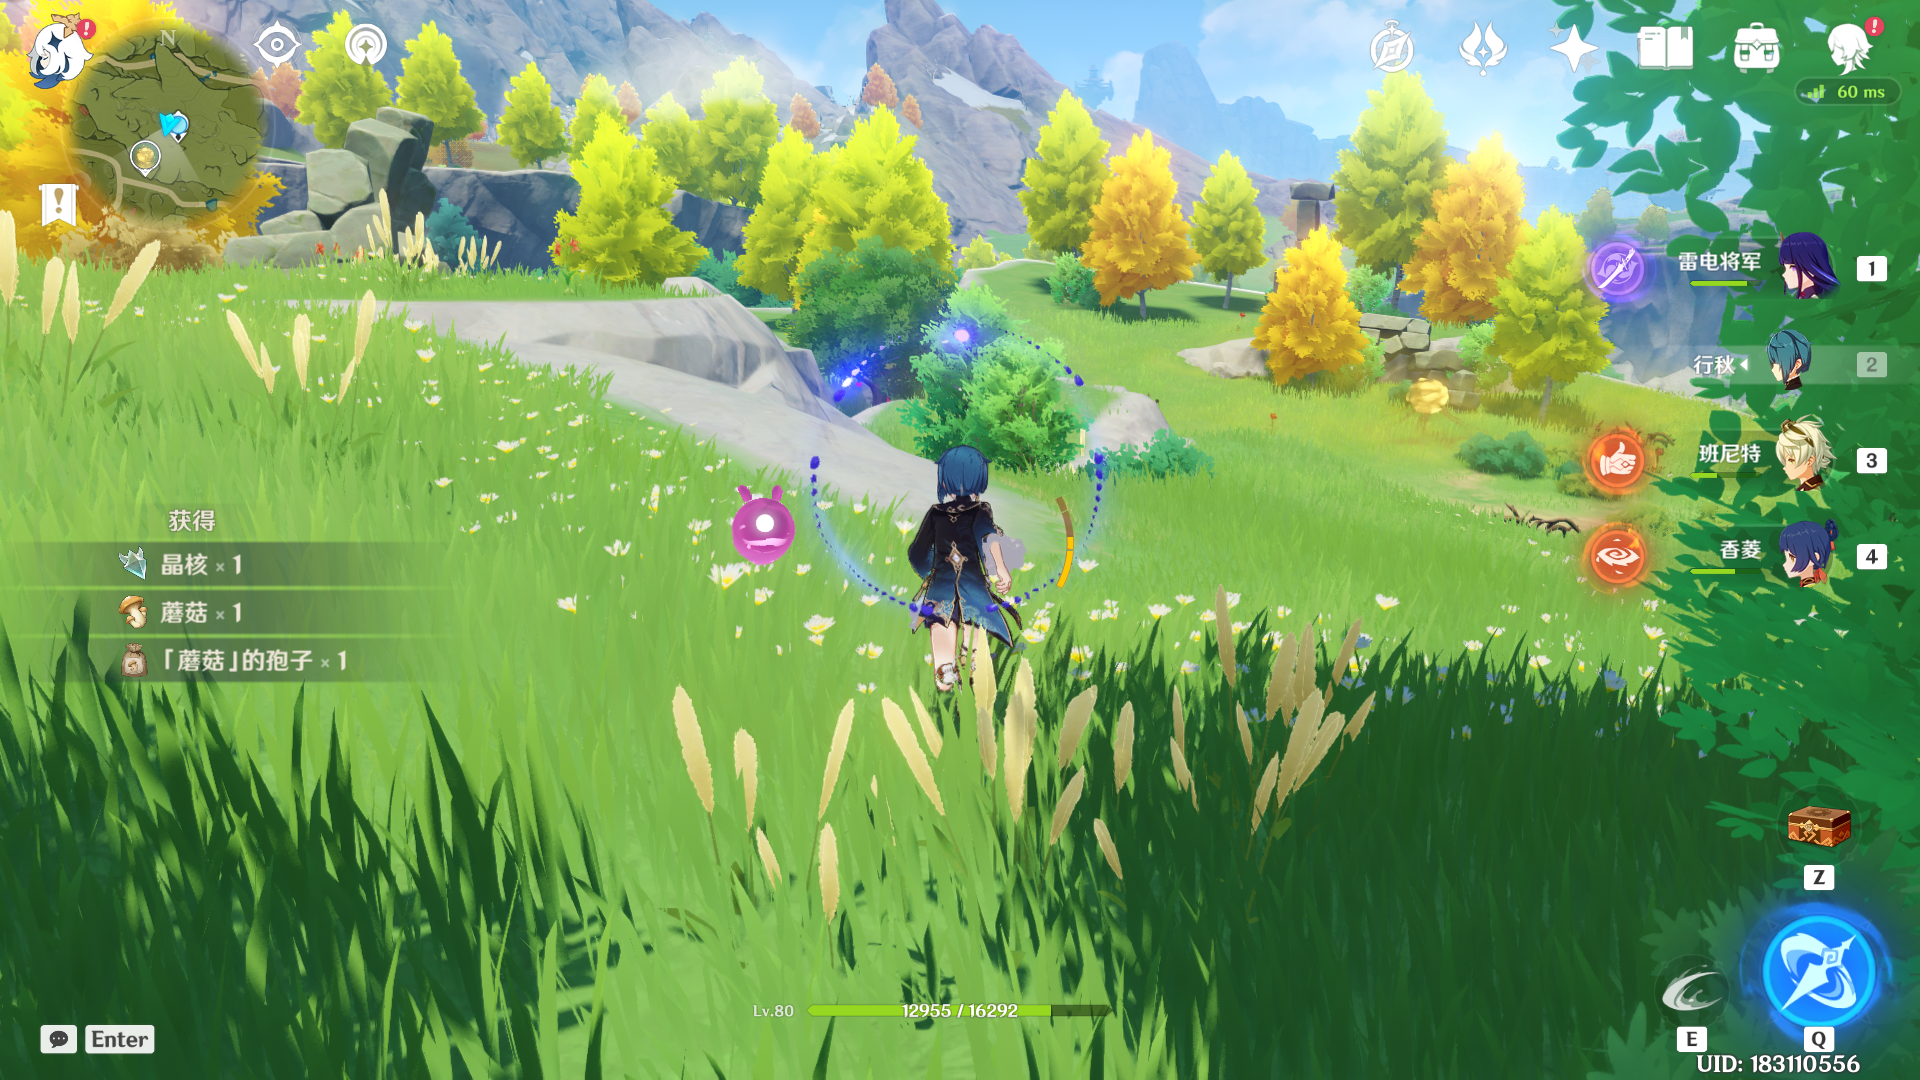character: (827, 381, 1084, 764)
